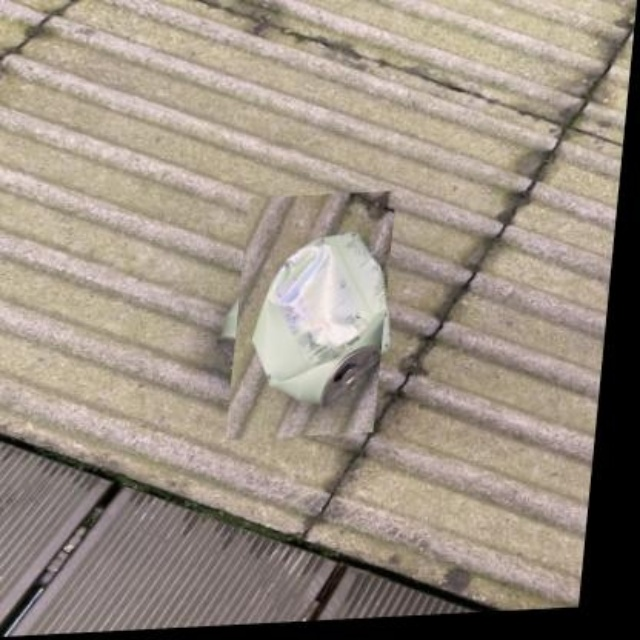trash: (252, 234, 388, 403)
